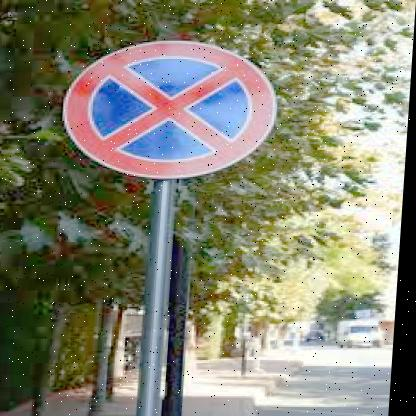No stopping: (66, 36, 276, 175)
